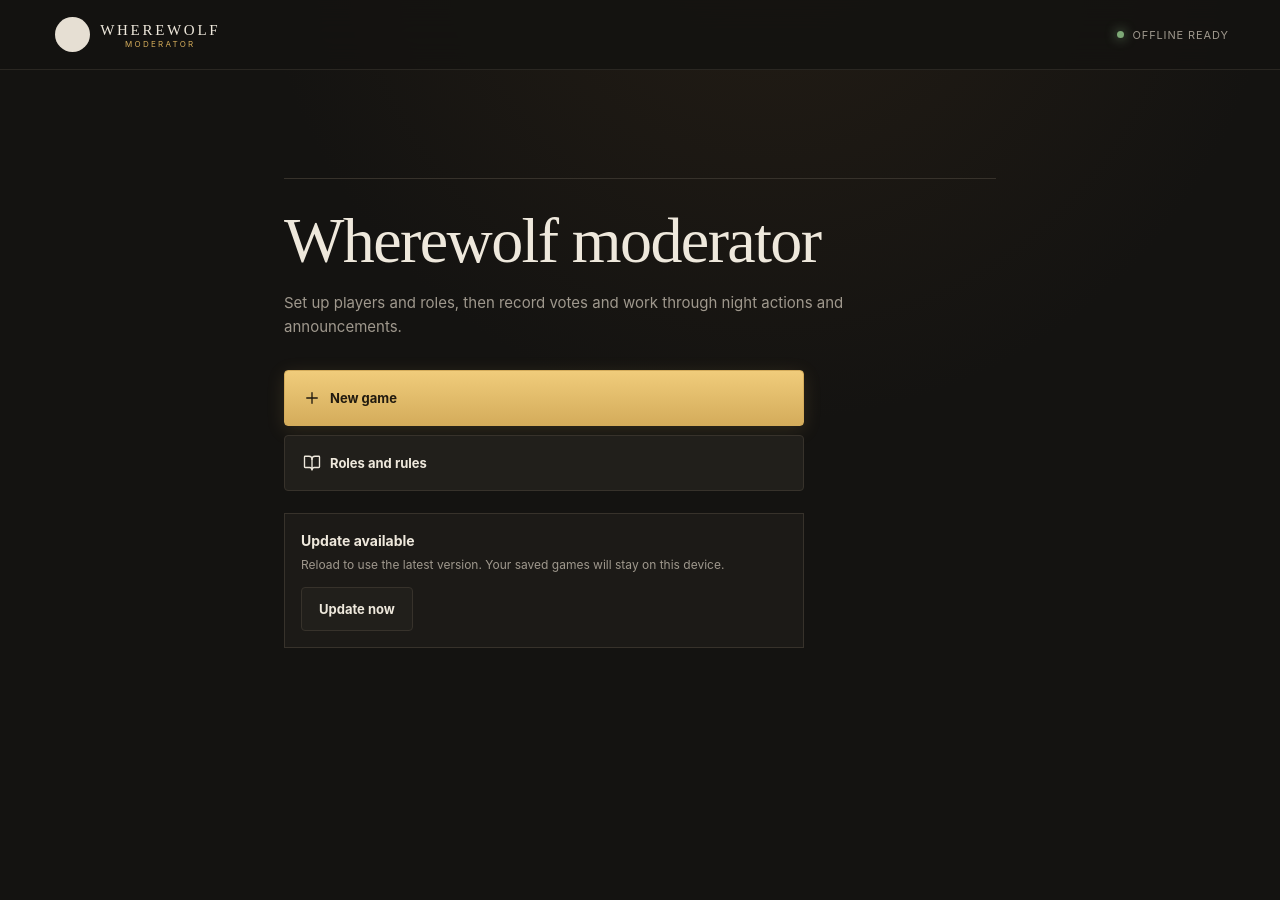
Explicit app updates › blocks entering setup while an accepted update is applying
This screenshot has width=1280, height=900.
Click the button "Update now".
click(357, 609)  # box [301,587,413,631]
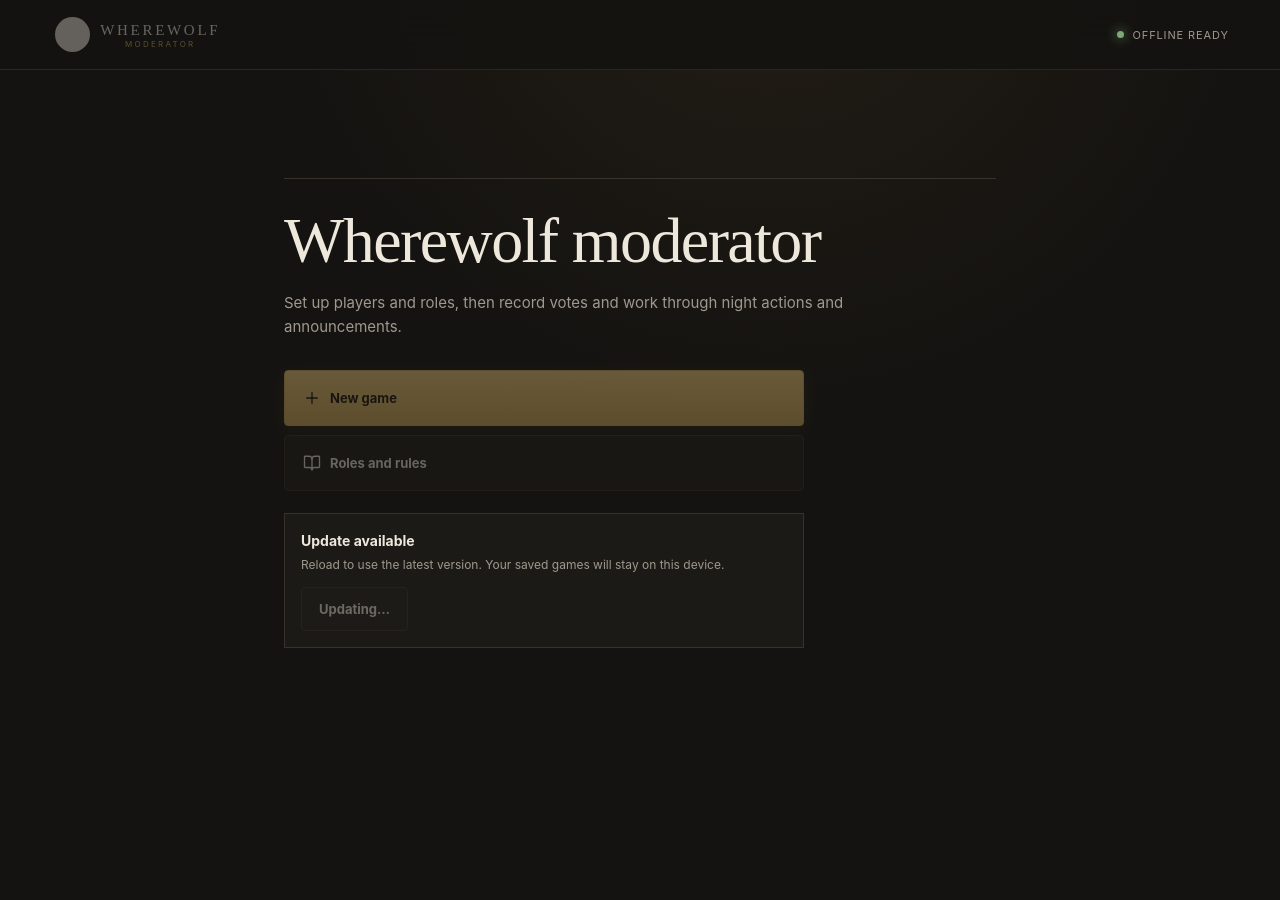
Check: the button "New game" is disabled, box [284,370,804,426]
Check: the button "Updating…" is disabled, box [301,587,408,631]
